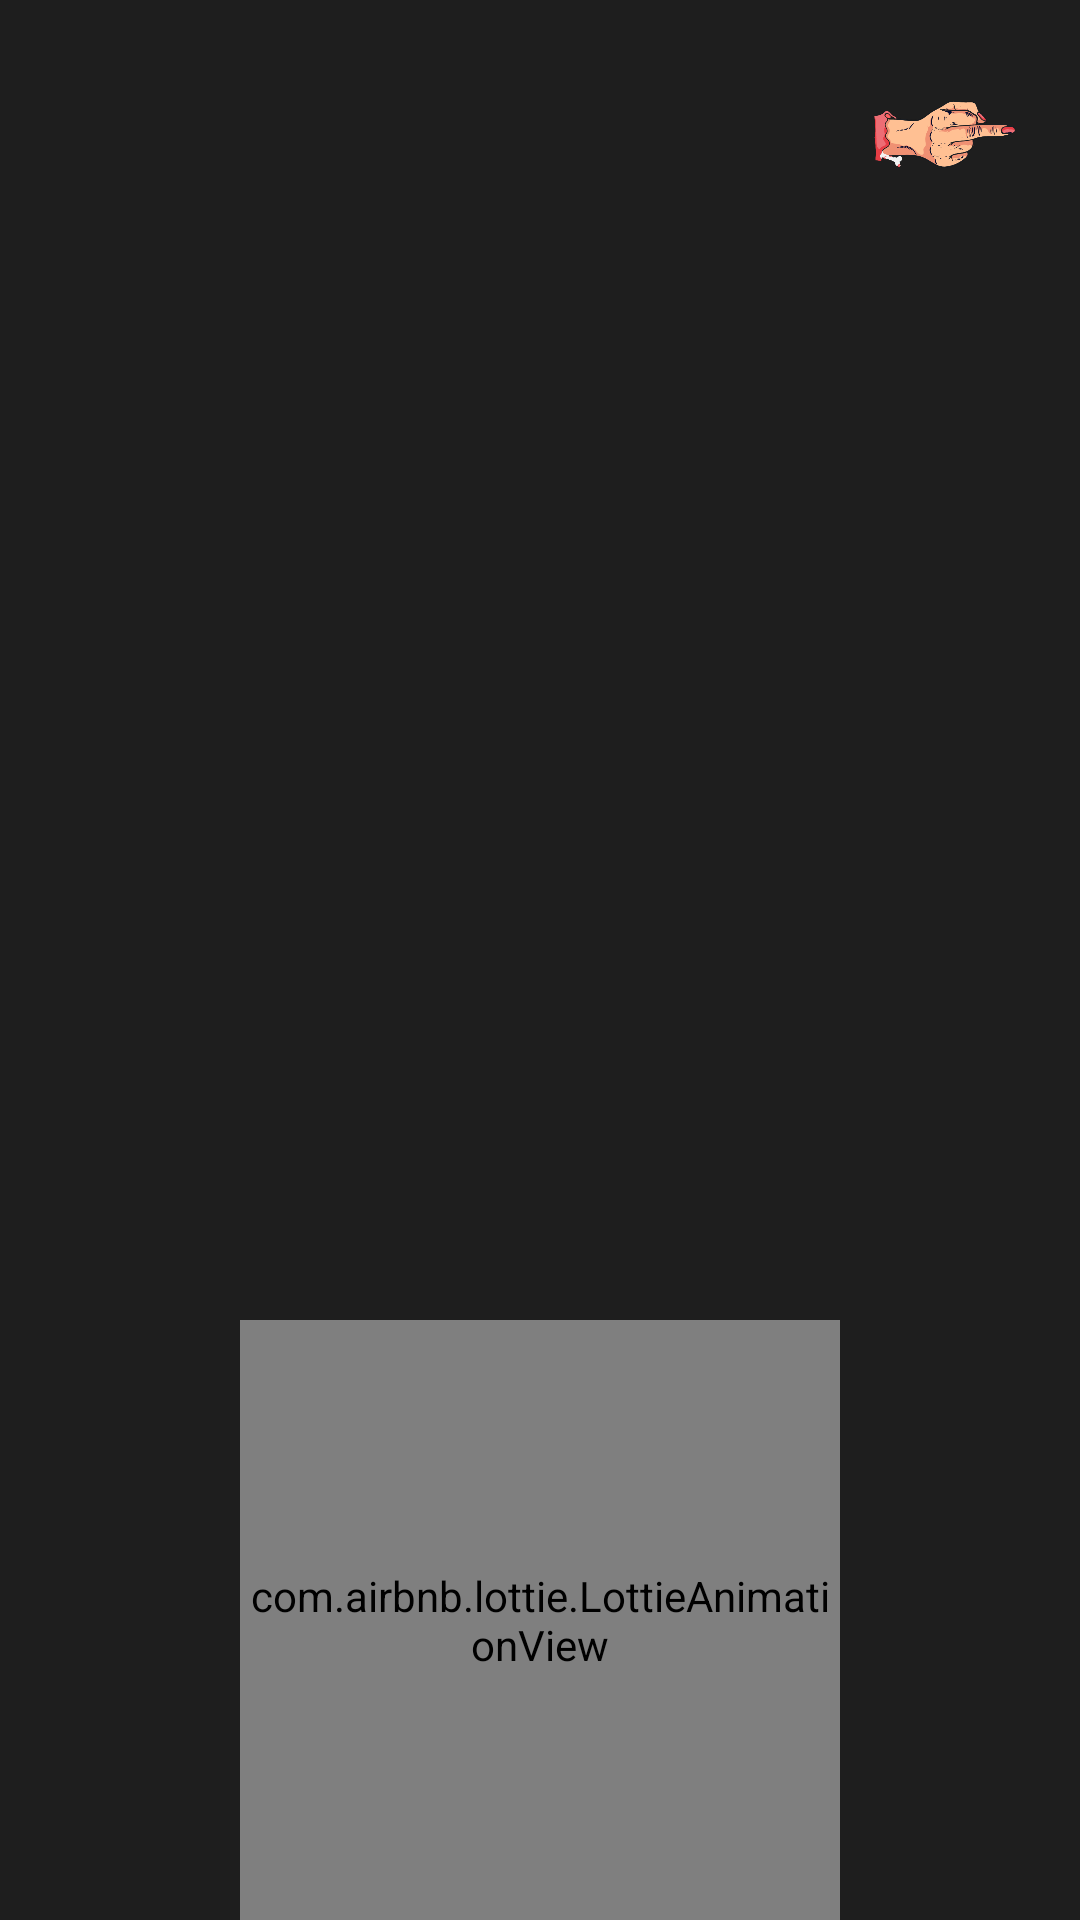

Where icons sit on this 1080 x 1920 app screen, as box=[x1, y1, x2, y2]:
fuck skip: box=[874, 102, 1015, 167]
